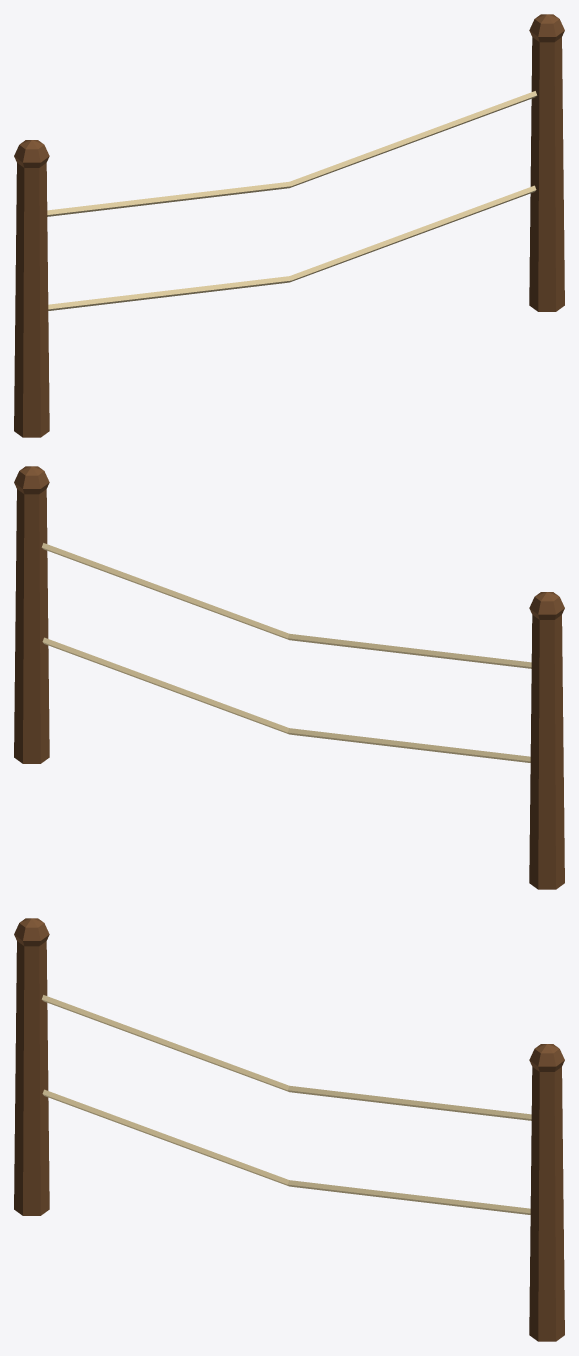
Rendered from Prop_Fence.fbx.
3 renders of one model, top to bottom at view 1: azimuth 30°, elevation 25°; view 2: azimuth 150°, elevation 25°; view 3: azimuth 330°, elevation 25°, orthographic.
Visible parts, largest first — view 1: Prop_Fence.001; view 2: Prop_Fence.001; view 3: Prop_Fence.001.
Boxes of the visible parts, x1,y1,x2,y2 form: Prop_Fence.001: (14,14,564,437); Prop_Fence.001: (14,466,564,889); Prop_Fence.001: (14,918,564,1341).
Size of the model in its own units: 2.1 by 1.08 by 0.12.
